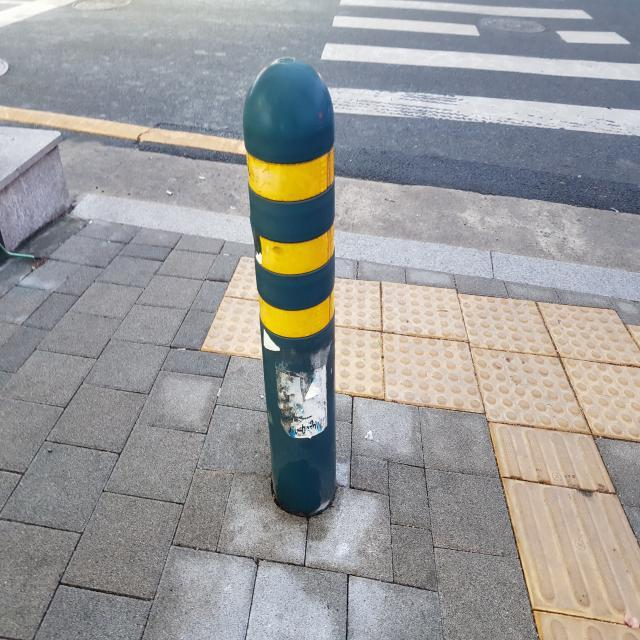pole: (243, 56, 339, 516)
